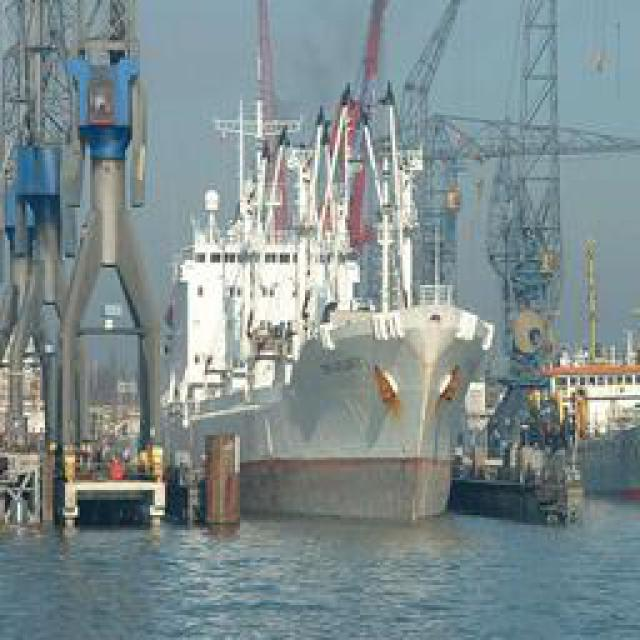Ship: (176, 1, 491, 526)
